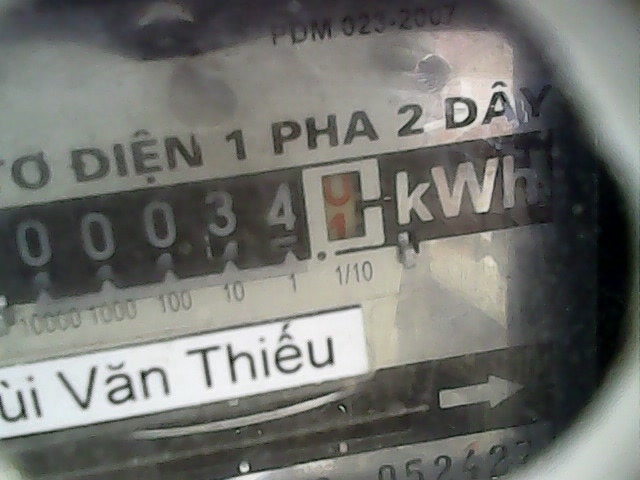phy_plate: (1, 158, 392, 290)
